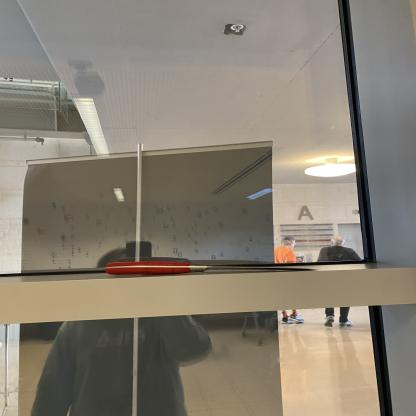Knife: (105, 258, 309, 277)
